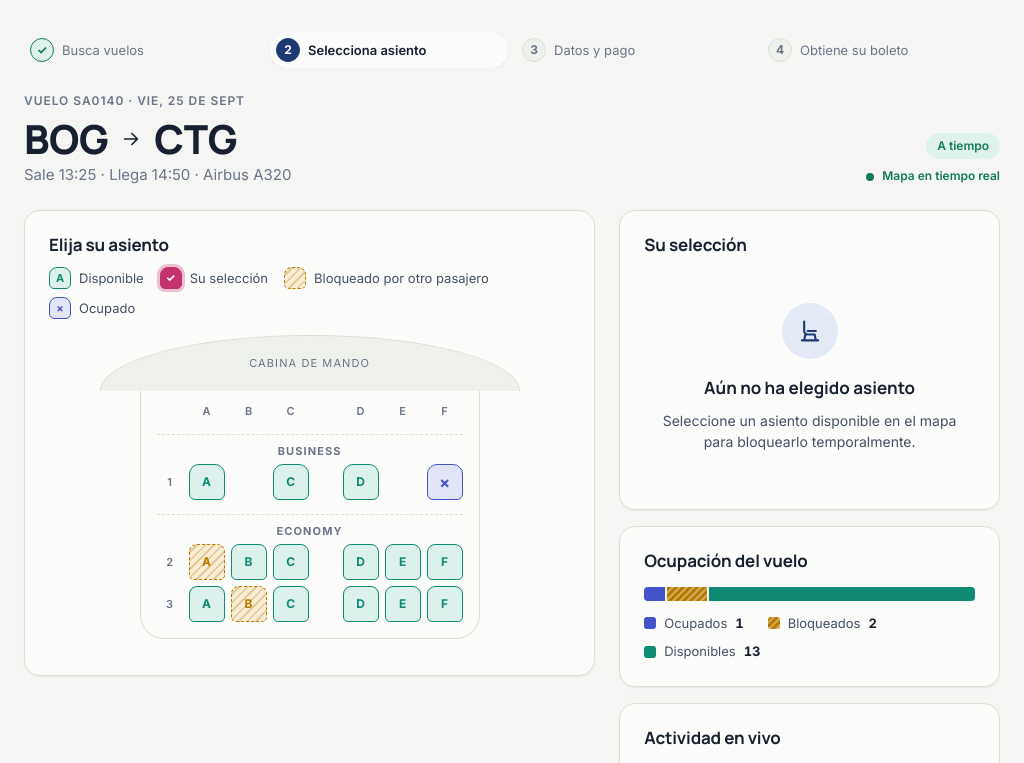
Scenario: SeatSelectionPage (HU2 de punta a punta con dobles) › refleja al instante el bloqueo de otro pasajero y bloquea el propio
This screenshot has width=1024, height=763.
Click the button "C" below "Economy" at point(291, 562), box [273,544,309,580]
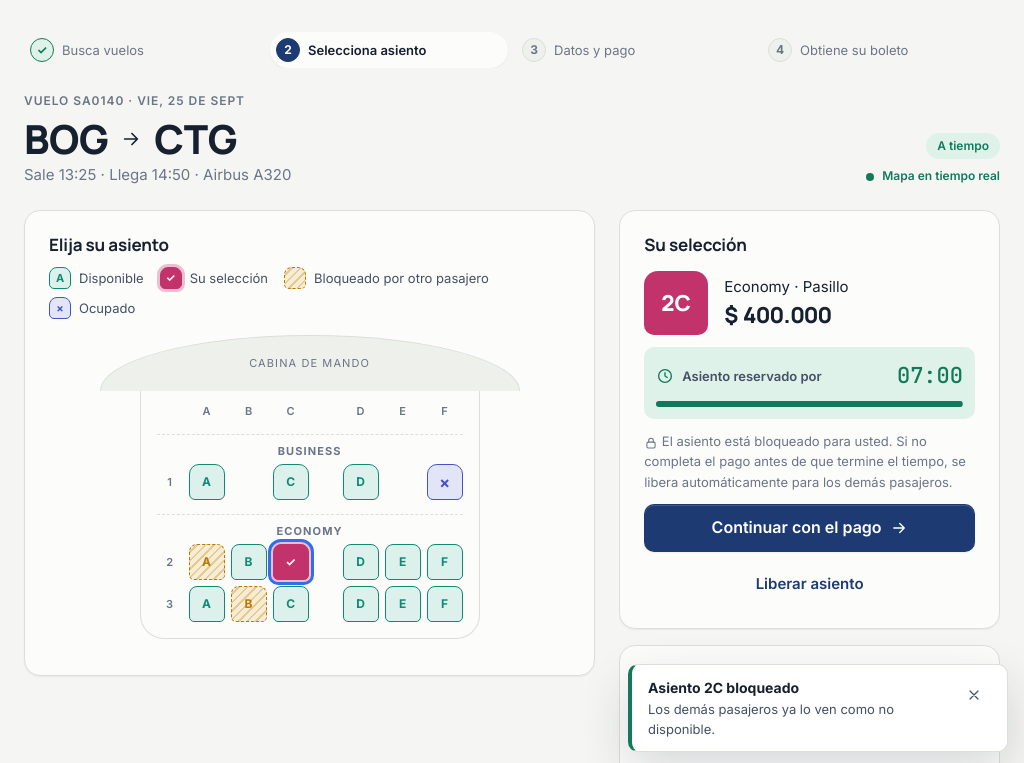
Check: the link "Continuar con el pago" is shown, box [644,504,975,552]
Check: the progress indicator is shown, box [656,401,963,407]
